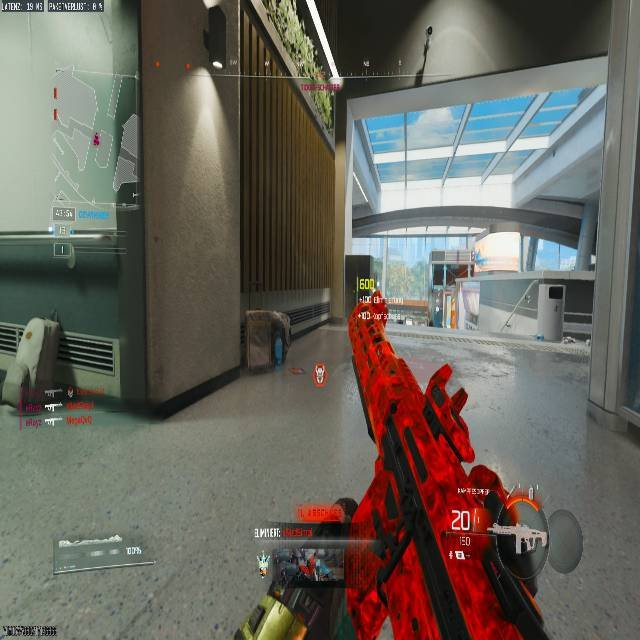player: (352, 289, 389, 346)
